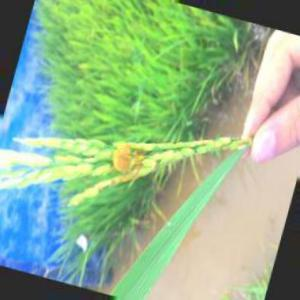Leaf_Scald: (114, 131, 141, 175)
